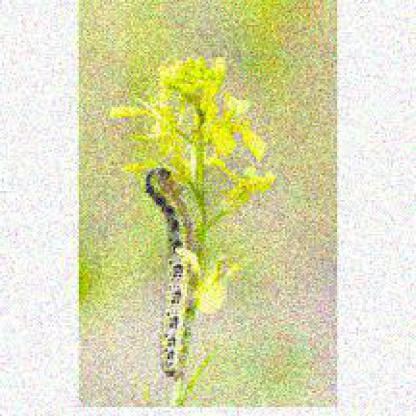pieris: (149, 167, 196, 376)
